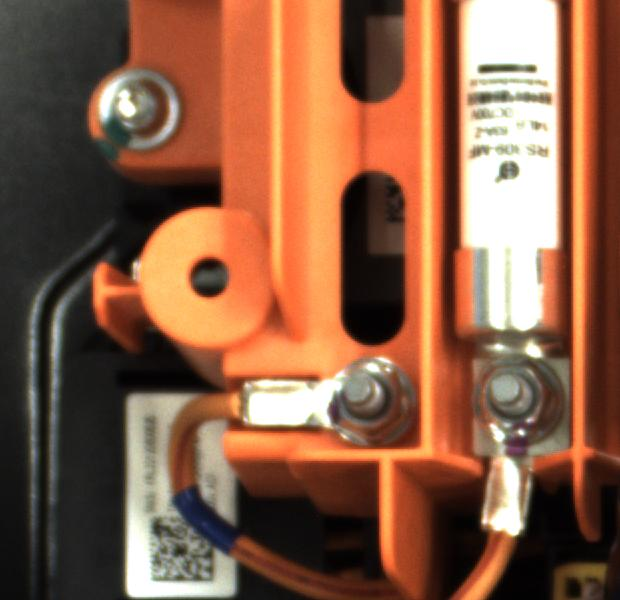screw_m: (83, 66, 191, 159)
screw_s: (464, 346, 573, 448), (324, 356, 417, 446)
